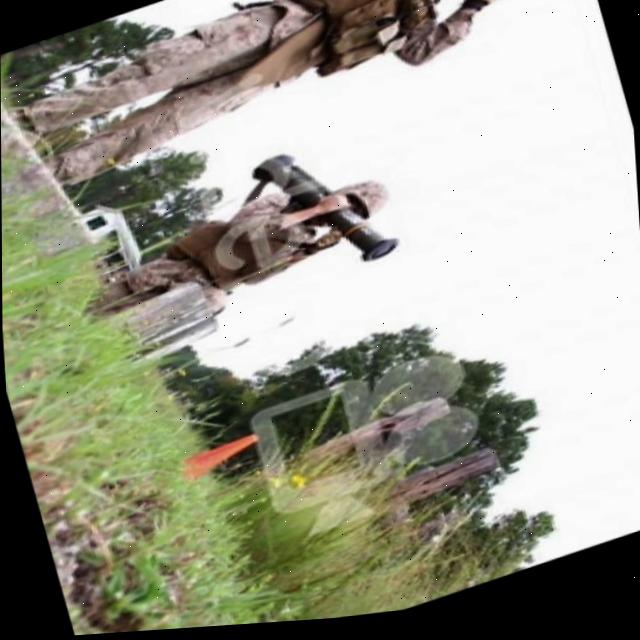rocket: (241, 125, 408, 298)
